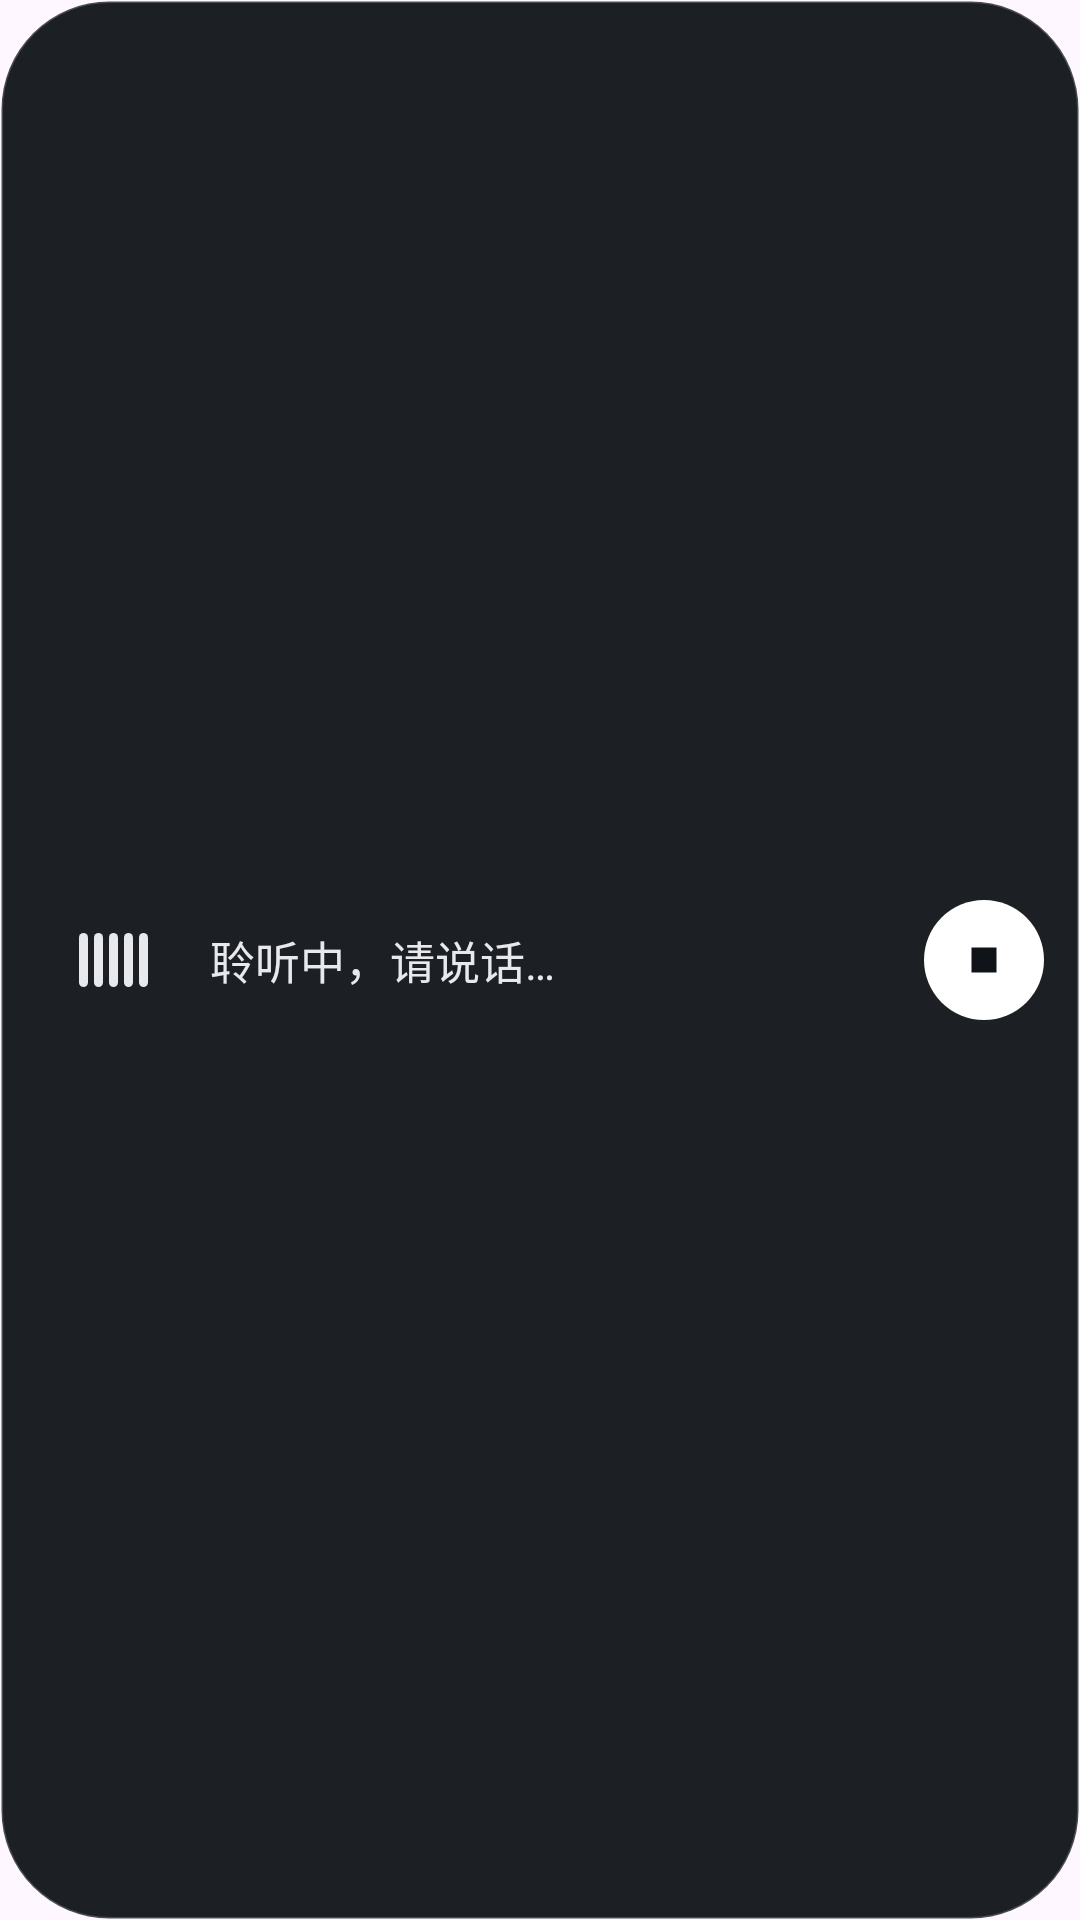

Screen size 1080x1920. Icon name, then its box in pixels as (x1, y1, x2, y2):
停止识别: (924, 900, 1044, 1020)
